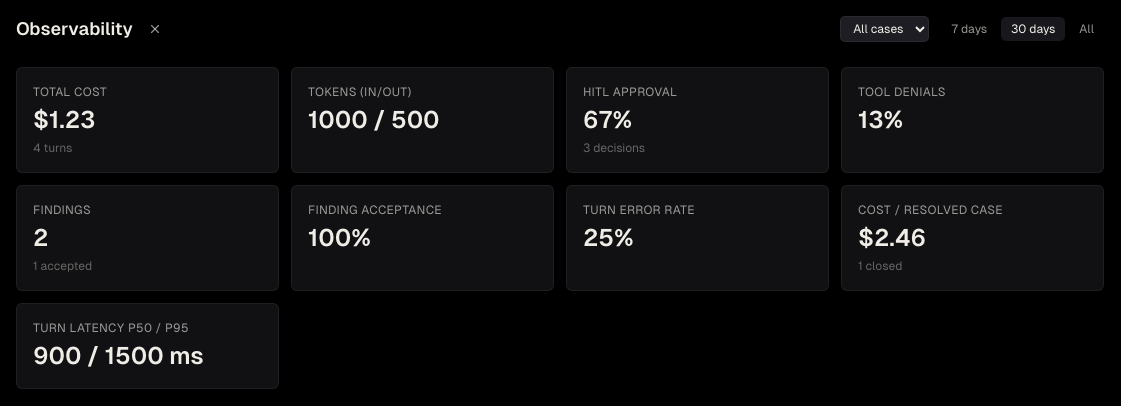
Test: ObservabilityView › shows per-case metrics when a case is selected
Step 1. Select "C1" in the dropdown named "scope" → (885, 29), box [840,16,929,42]
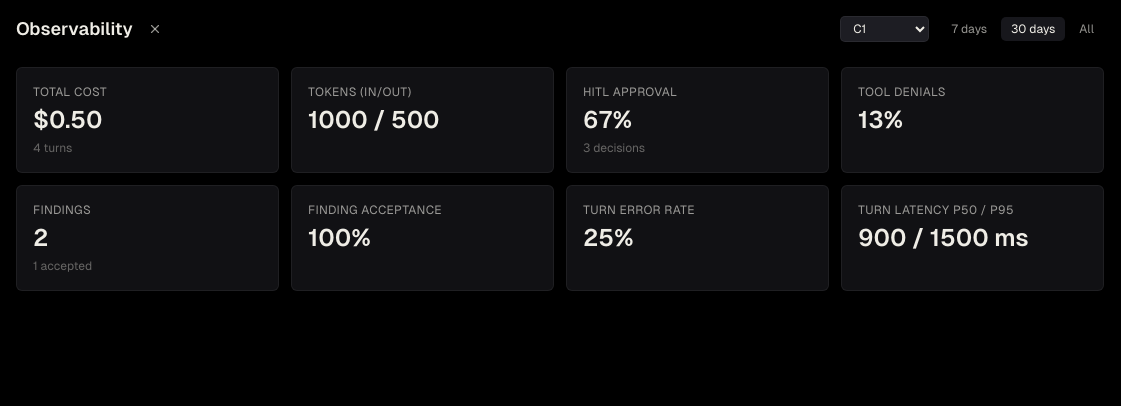
Expected: the text "$0.50" is shown, [33,106,102,133]
